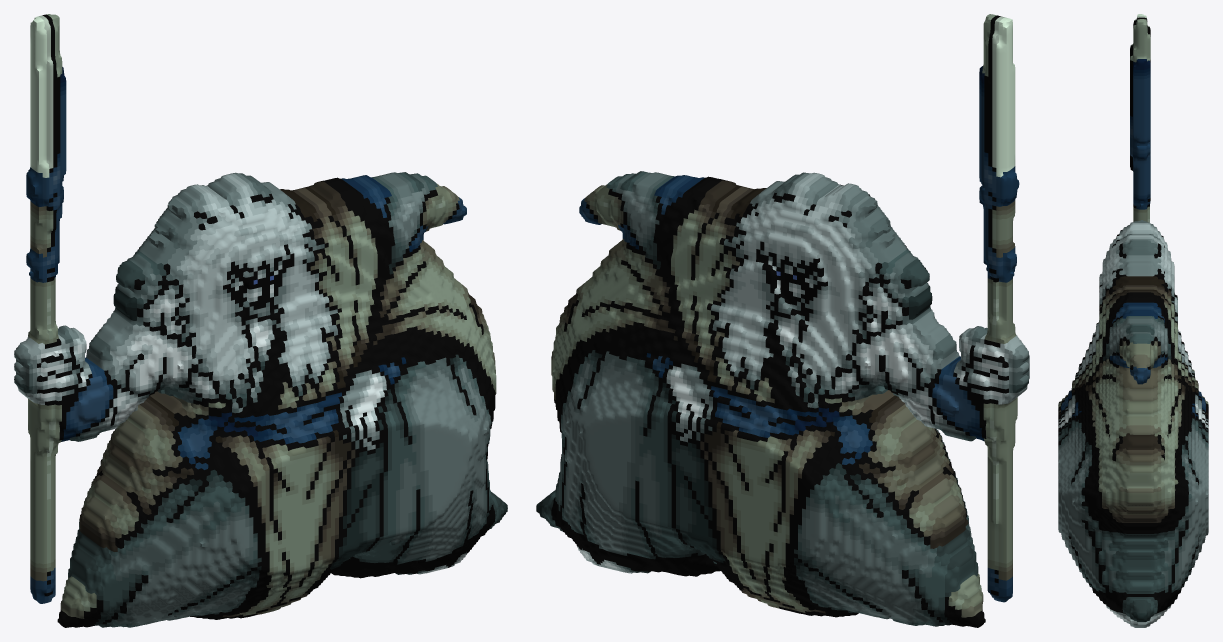
The model's file is Fight_755_3_06.obj.
The picture shows the model from 3 angles, left to right: view 1: azimuth 30°, elevation 25°; view 2: azimuth 150°, elevation 25°; view 3: azimuth 270°, elevation 25°; orthographic projection. The views are drawn at different scales.
Size of the model in its own units: 12 by 15 by 4.4.
Materials: 1 (1 with a texture image).
